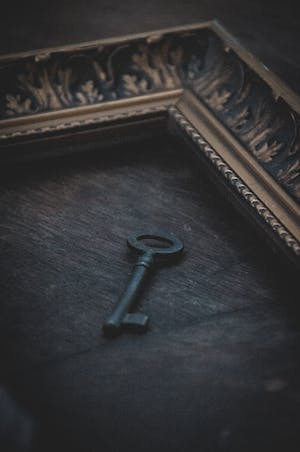key: (102, 230, 184, 335)
